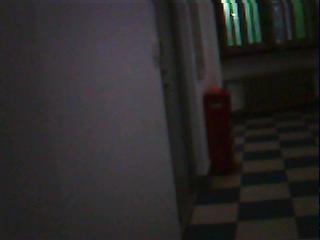oball: (211, 85, 218, 91)
